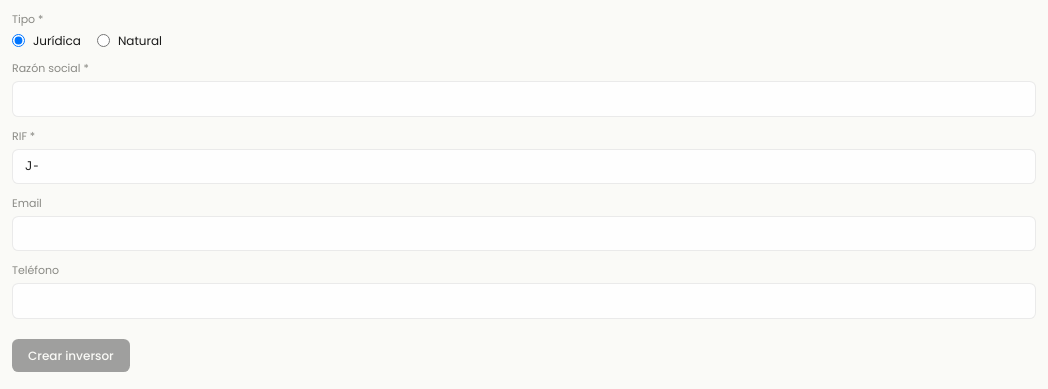
<InvestorCreateForm /> › preserves the typed digits when swapping prefix
The image size is (1048, 389).
Replace the text in the field labelled "RIF *" with "J-12345678-9": (524, 166) [12,149,1036,184]
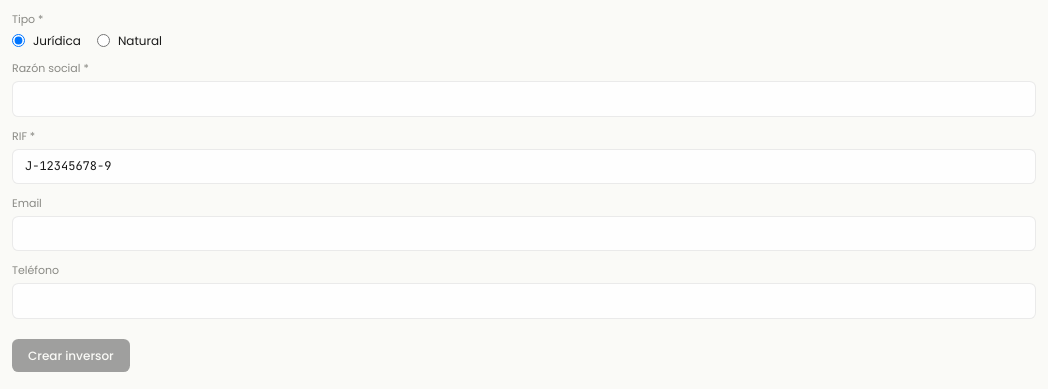
Click the radio button labelled "Natural": (103, 41) [97,34,110,47]
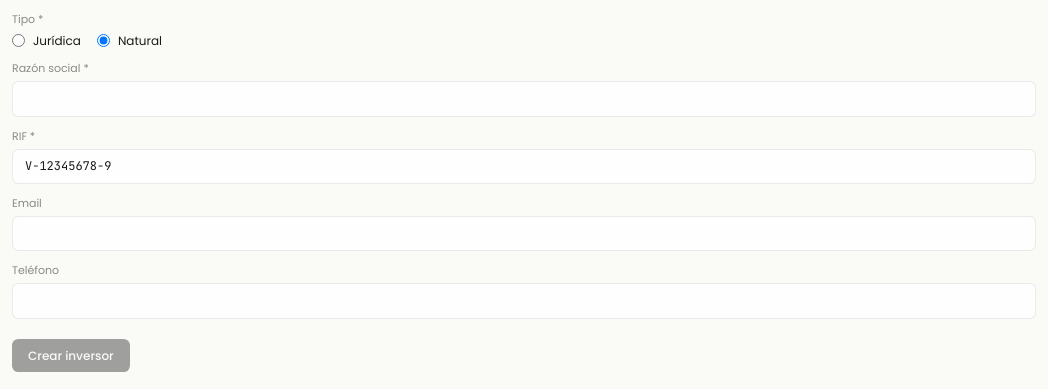
expect the field labelled "RIF *" holds "V-12345678-9": met, box [12,149,1036,184]
